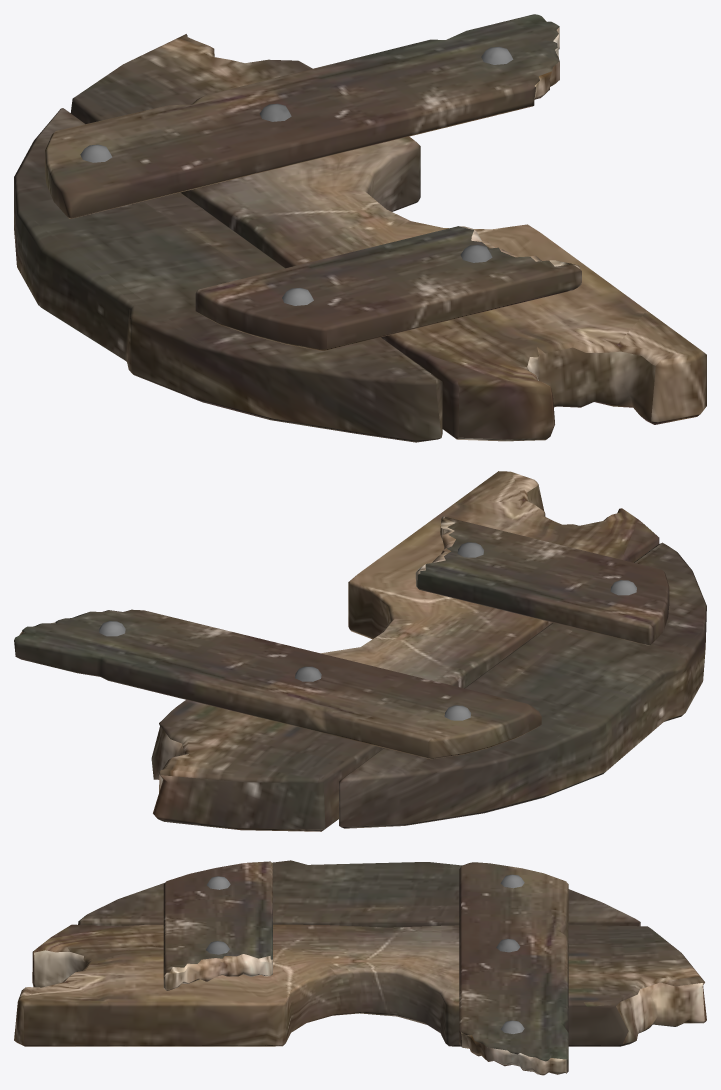
3 views of the same model, one above another, from view 1: azimuth 30°, elevation 25°; view 2: azimuth 150°, elevation 25°; view 3: azimuth 270°, elevation 25° (orthographic). The views are drawn at different scales.
Visible parts, largest first — view 1: SM_Village_Cart_Wheel_v2_LOD0; view 2: SM_Village_Cart_Wheel_v2_LOD0; view 3: SM_Village_Cart_Wheel_v2_LOD0.
Part boxes in pixels (bbox=[...]): SM_Village_Cart_Wheel_v2_LOD0: bbox=[14, 14, 706, 442]; SM_Village_Cart_Wheel_v2_LOD0: bbox=[14, 471, 706, 831]; SM_Village_Cart_Wheel_v2_LOD0: bbox=[14, 860, 706, 1075].
Bounding box in the file's own units: 0.7761 × 0.1157 × 1.04.
Materials: 1 (1 with a texture image).
